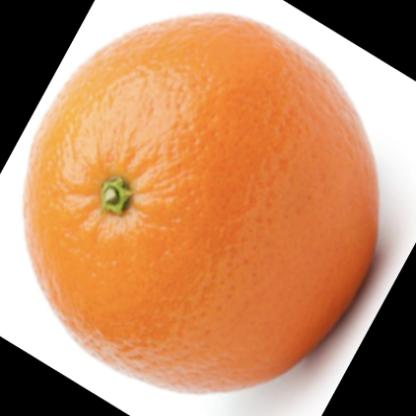fresh: (22, 15, 383, 397)
